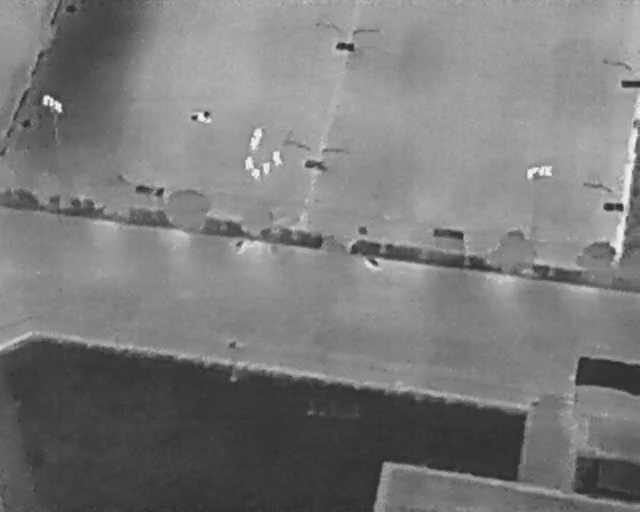Person: (272, 150, 283, 168), (244, 155, 254, 172), (261, 161, 271, 176), (254, 128, 262, 145), (250, 137, 258, 154), (252, 167, 260, 180)
